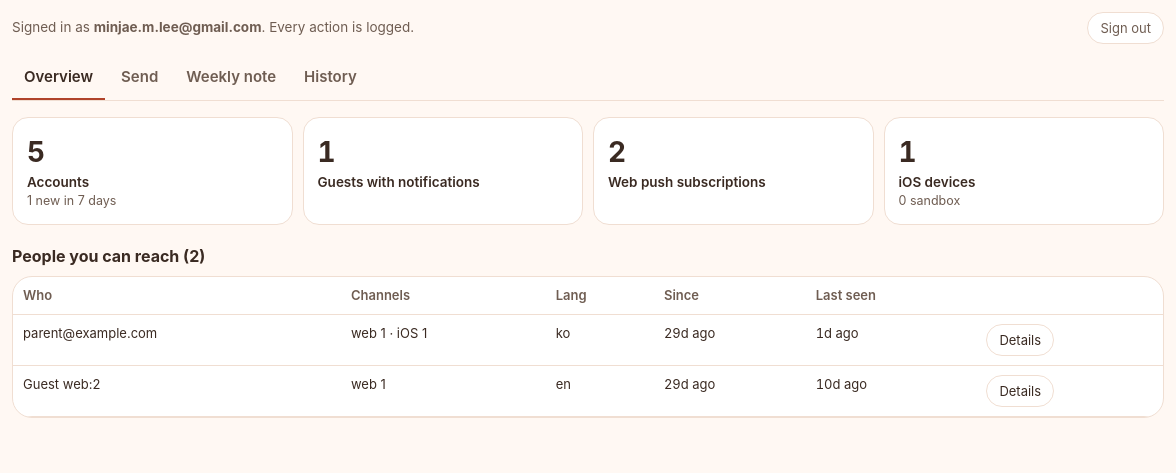
Test: AdminScreen › overview shows counts; lists carry no baby details until a row is opened
The image size is (1176, 473).
Expected: the element with test id "stat-accounts" shows "5", [27,135,45,169]
Expected: the element with test id "stat-accounts" shows "1 new in 7 days", [27,193,116,208]
Click the button with test id "detail-user:33333333-3333-4333-8333-333333333333". click: (1020, 340)
box: [986,324,1054,356]
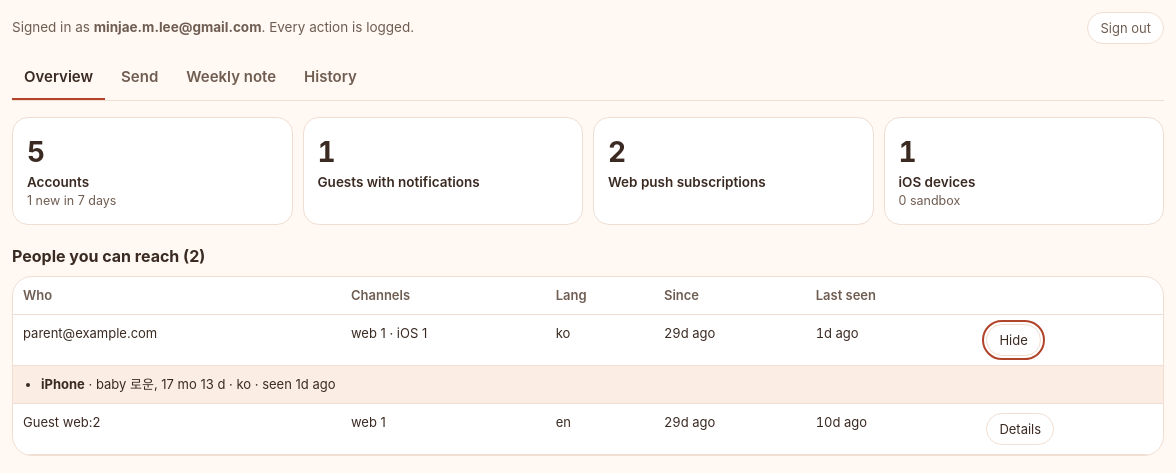
Now the cell with test id "admin-detail" shows "baby 로운, 17 mo 13 d", box [13,366,1163,404]
